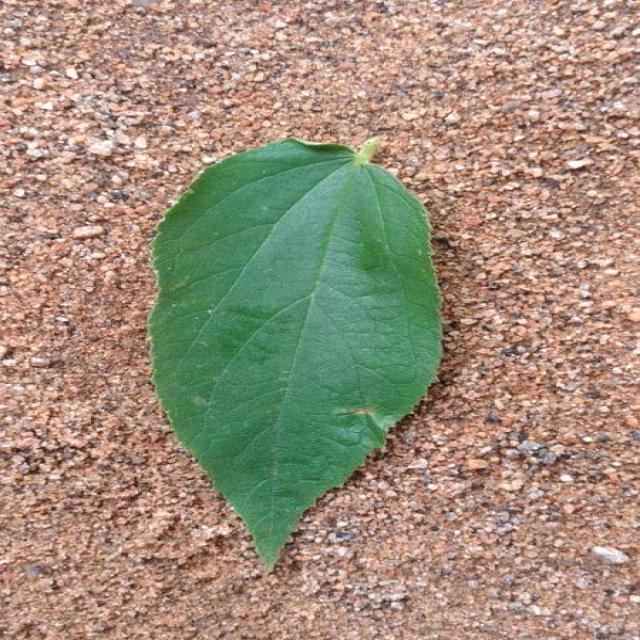gasagase: (148, 138, 442, 569)
